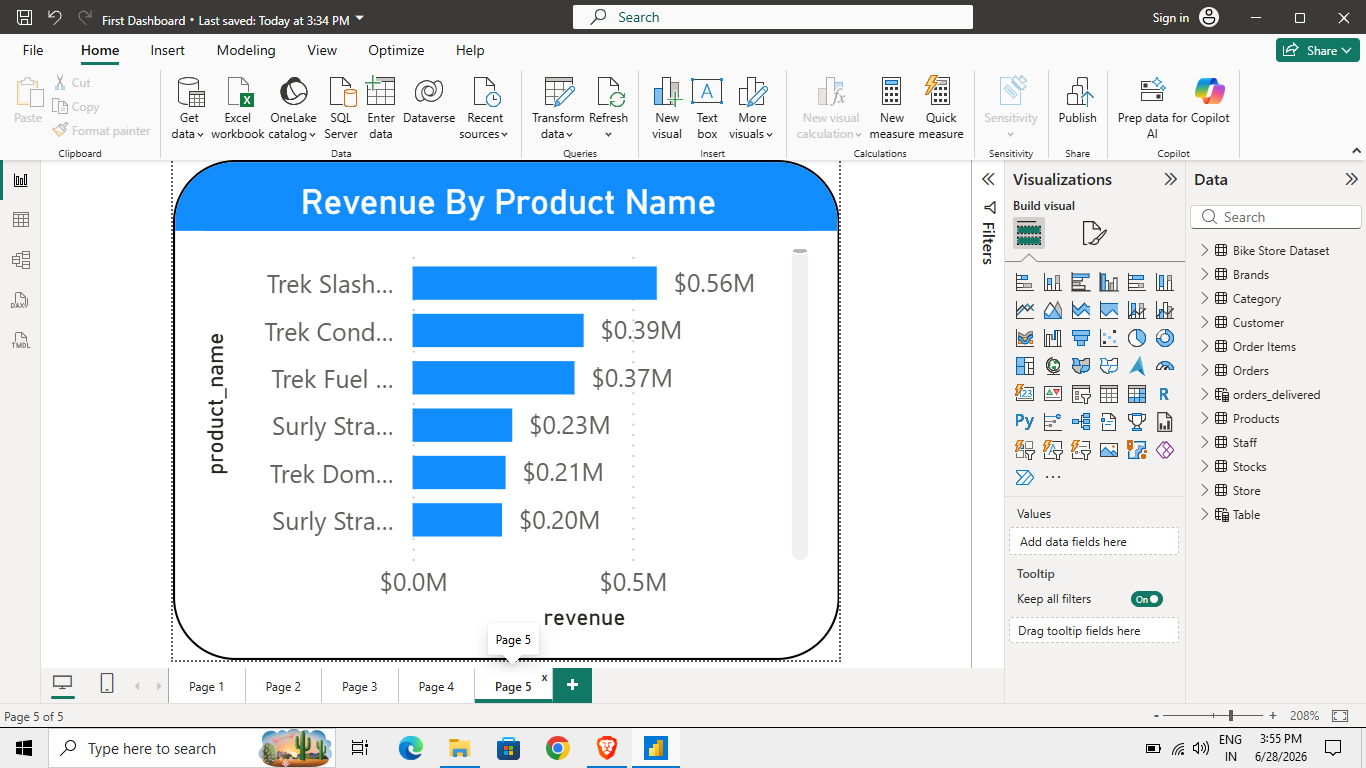

This screenshot's page, from the dashboard's own definition file:
{"tool":"powerbi","page":{"name":"Page 5","canvas":[320,240],"ordinal":4},"visuals":[{"type":"barChart","title":"Revenue By Product Name","fields":{"Y":["Table.revenue"],"Category":["Products.product_name"]},"box":[0,0,320,240],"z":0}]}

Visuals, with their boxes on the page's 320x240 design canvas (x1, y1, x2, y2). These are canvas units, not pixel positions in the 1366x768 screenshot, which may show the page scaled, cropped or inside an application window:
"Revenue By Product Name" barChart: select_region(0, 0, 320, 240)
